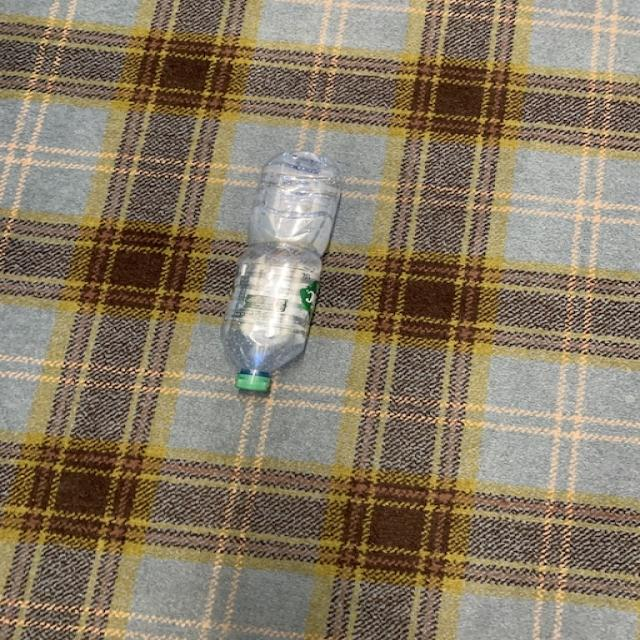litter: (234, 141, 344, 400)
